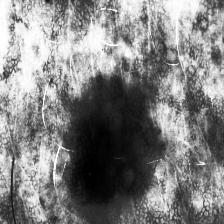Benign Marking or Mole: (69, 78, 165, 212)
